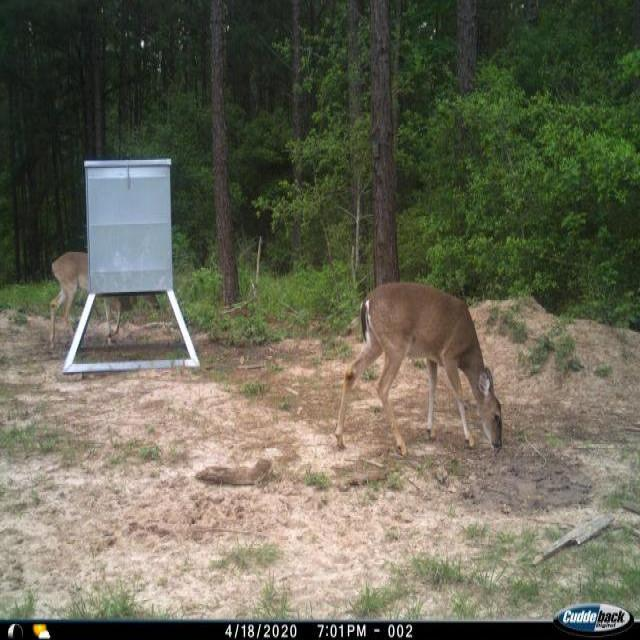deer: (331, 277, 508, 458), (45, 246, 167, 349)
